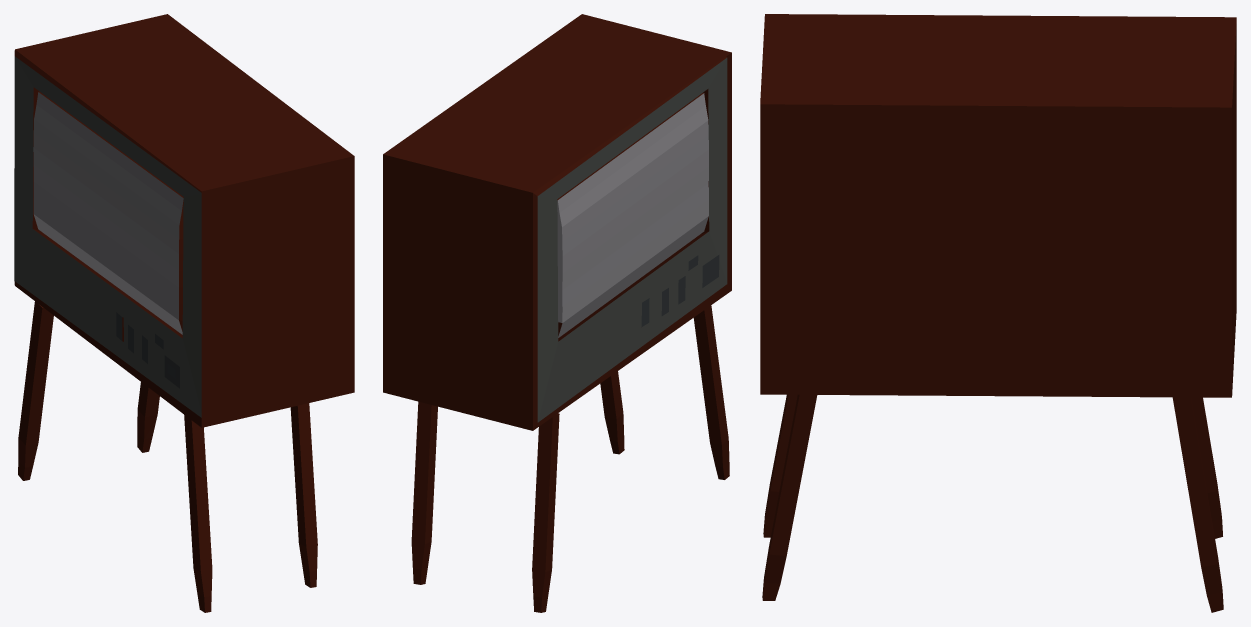
File: TV.TUBO(1).obj
3 views of the same model, side by side, from view 1: azimuth 30°, elevation 25°; view 2: azimuth 150°, elevation 25°; view 3: azimuth 270°, elevation 25° (orthographic). The views are drawn at different scales.
Visible parts, largest first — view 1: Cube; view 2: Cube; view 3: Cube.
Boxes of the visible parts, x1=… form: Cube: x1=14, y1=14, x2=354, y2=612; Cube: x1=383, y1=14, x2=731, y2=612; Cube: x1=760, y1=14, x2=1236, y2=612.
Bounding box in the file's own units: 1.51 × 3.8 × 3.15.
